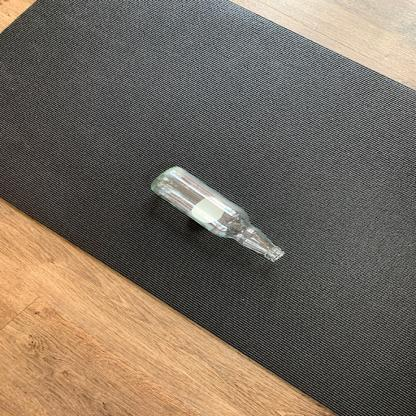trash: (150, 164, 284, 265)
